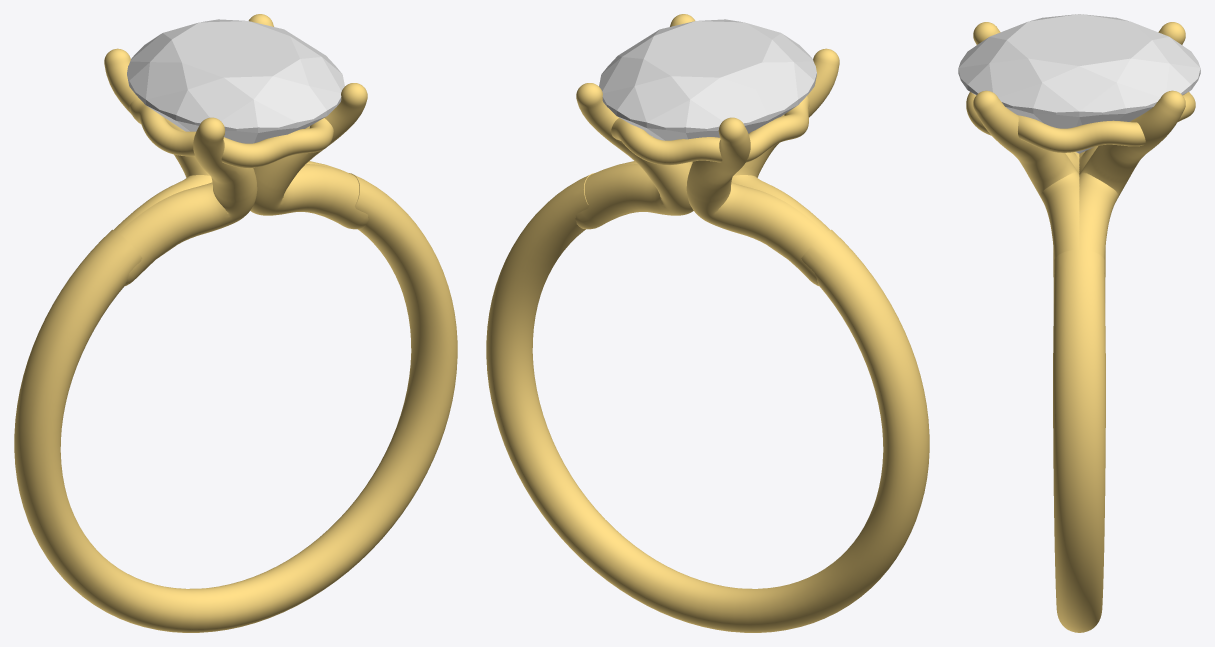
The model's file is DemetriYGtwistrail_blender.glb.
3 views of the same model, side by side, from view 1: azimuth 30°, elevation 25°; view 2: azimuth 150°, elevation 25°; view 3: azimuth 270°, elevation 25° (orthographic).
Visible parts, largest first — view 1: V3 Demetri YG for 3d model, Demetri oval dia for 3d model; view 2: V3 Demetri YG for 3d model, Demetri oval dia for 3d model; view 3: V3 Demetri YG for 3d model, Demetri oval dia for 3d model.
Part boxes in pixels (<box>): V3 Demetri YG for 3d model: <box>14,14,457,632</box>; Demetri oval dia for 3d model: <box>127,19,344,143</box>; V3 Demetri YG for 3d model: <box>486,14,929,632</box>; Demetri oval dia for 3d model: <box>599,19,816,140</box>; V3 Demetri YG for 3d model: <box>966,22,1195,632</box>; Demetri oval dia for 3d model: <box>958,14,1200,153</box>.
Size of the model in its own units: 20.51 by 25.96 by 10.
